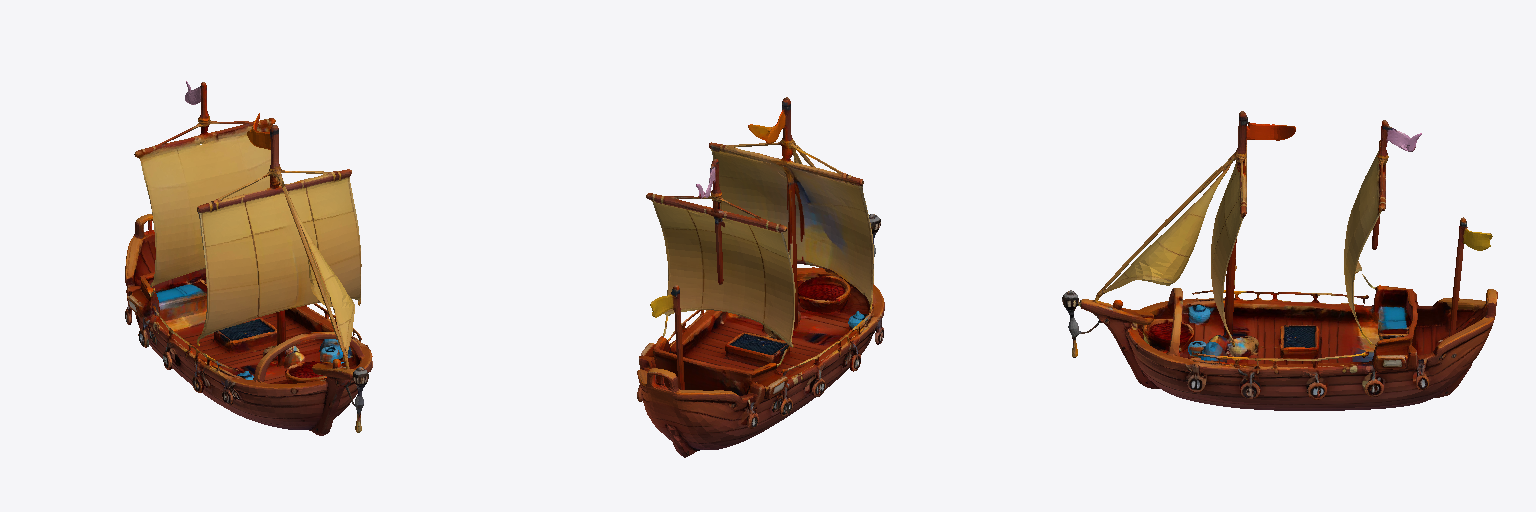
3 views of the same model, side by side, from view 1: azimuth 30°, elevation 25°; view 2: azimuth 150°, elevation 25°; view 3: azimuth 270°, elevation 25° (orthographic).
Parts seen in each view (by area): view 1: tripo_node_c43bc183-9f81-4e84-9133-77e9e[number redacted]; view 2: tripo_node_c43bc183-9f81-4e84-9133-77e9e[number redacted]; view 3: tripo_node_c43bc183-9f81-4e84-9133-77e9e[number redacted].
Part boxes in pixels (x1,y1,x2,y2): tripo_node_c43bc183-9f81-4e84-9133-77e9e[number redacted]: (125, 81, 372, 435); tripo_node_c43bc183-9f81-4e84-9133-77e9e[number redacted]: (637, 97, 884, 457); tripo_node_c43bc183-9f81-4e84-9133-77e9e[number redacted]: (1062, 111, 1497, 410).
Bounding box in the file's own units: 0.4317 × 0.7313 × 0.9979.
Materials: 1 (1 with a texture image).